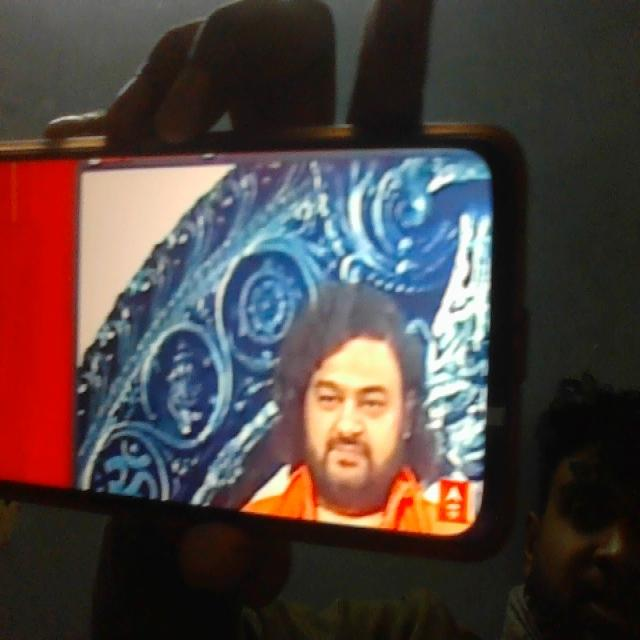fake: (290, 270, 419, 514)
